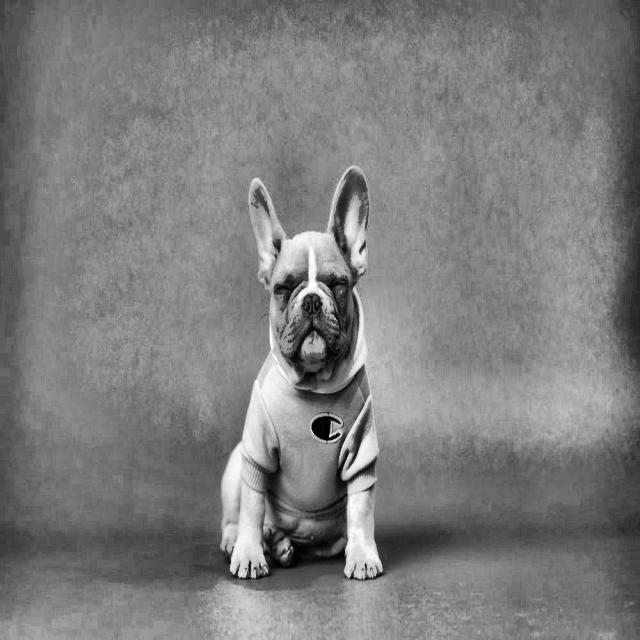bulldog: (233, 141, 383, 414)
